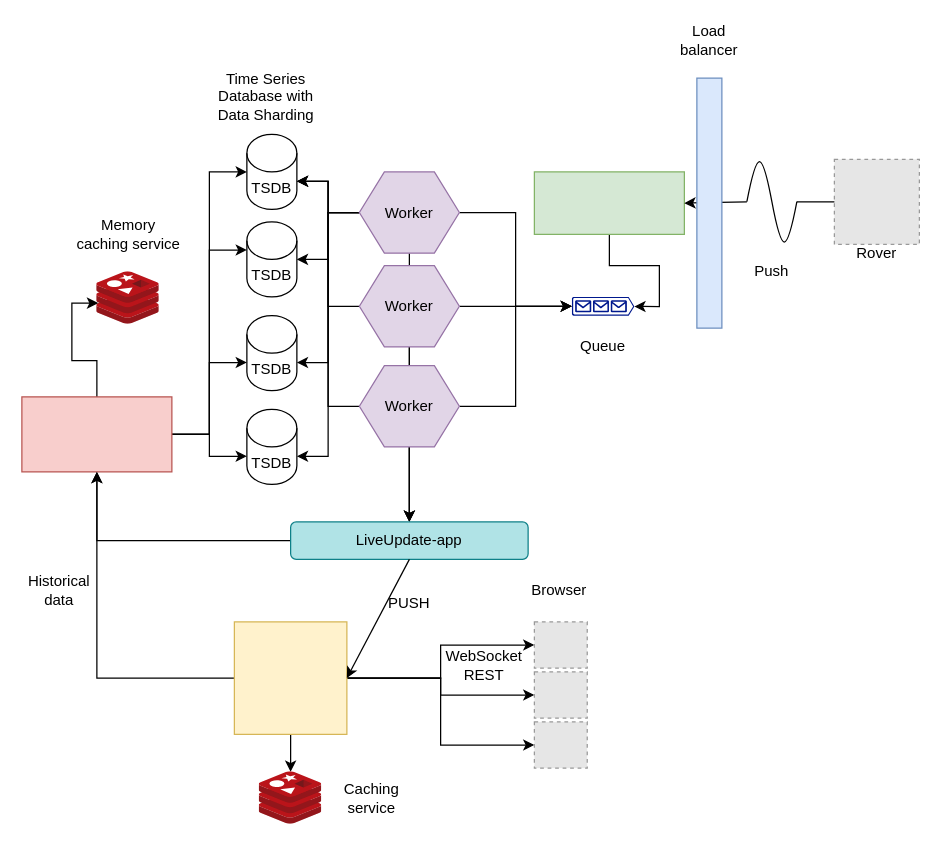
Image size: 941x845. Some labels were removed from this diagram. Grey dashed boxes stand in for pictures. Here are the shapes that lost their labels. From the top down, the centre of each, then its label:
At (x=608, y=202): "Live Data Collector".
At (x=96, y=434): "Rover Data Aggregator".
At (x=290, y=677): "Dashboard-app".
